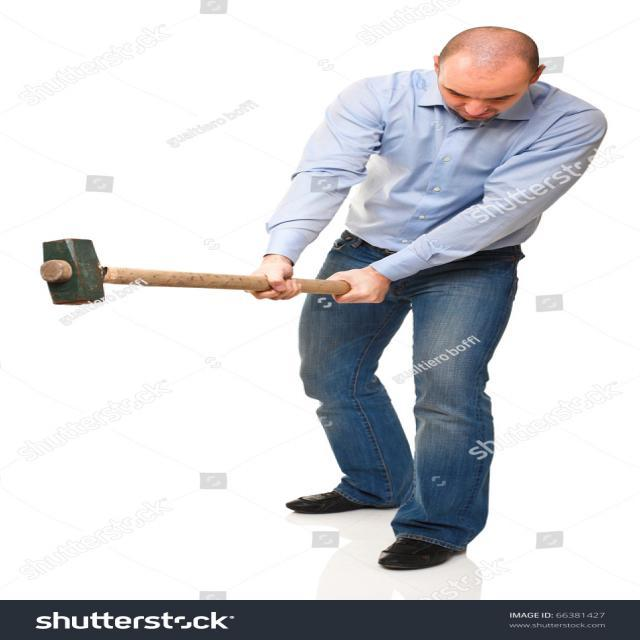hammer: (32, 226, 384, 316)
